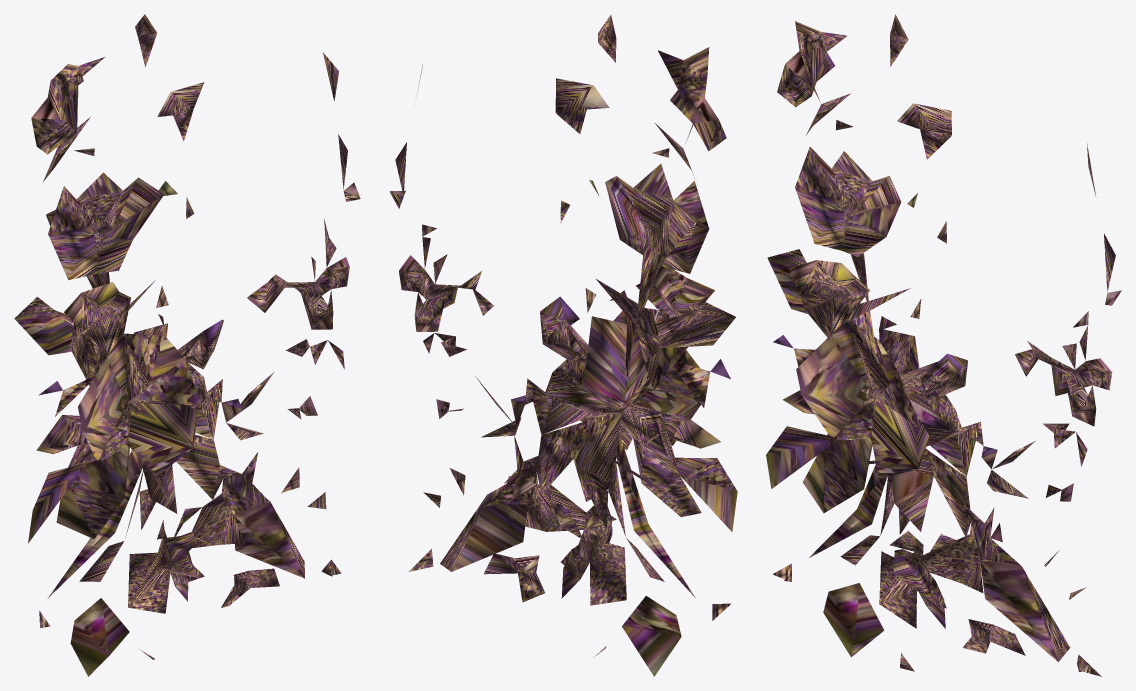
File: 1000054986_jpg.glb
3 views of the same model, side by side, from view 1: azimuth 30°, elevation 25°; view 2: azimuth 150°, elevation 25°; view 3: azimuth 330°, elevation 25° (orthographic). The views are drawn at different scales.
Visible parts, largest first — view 1: 1000054986_jpg; view 2: 1000054986_jpg; view 3: 1000054986_jpg.
Part boxes in pixels (left/top/right/bottom): 1000054986_jpg: left=14, top=14, right=360, bottom=676; 1000054986_jpg: left=389, top=14, right=737, bottom=676; 1000054986_jpg: left=766, top=14, right=1121, bottom=676.
Bounding box in the file's own units: 0.9968 × 1.8 × 0.1419.
1 material, 1 textured.
